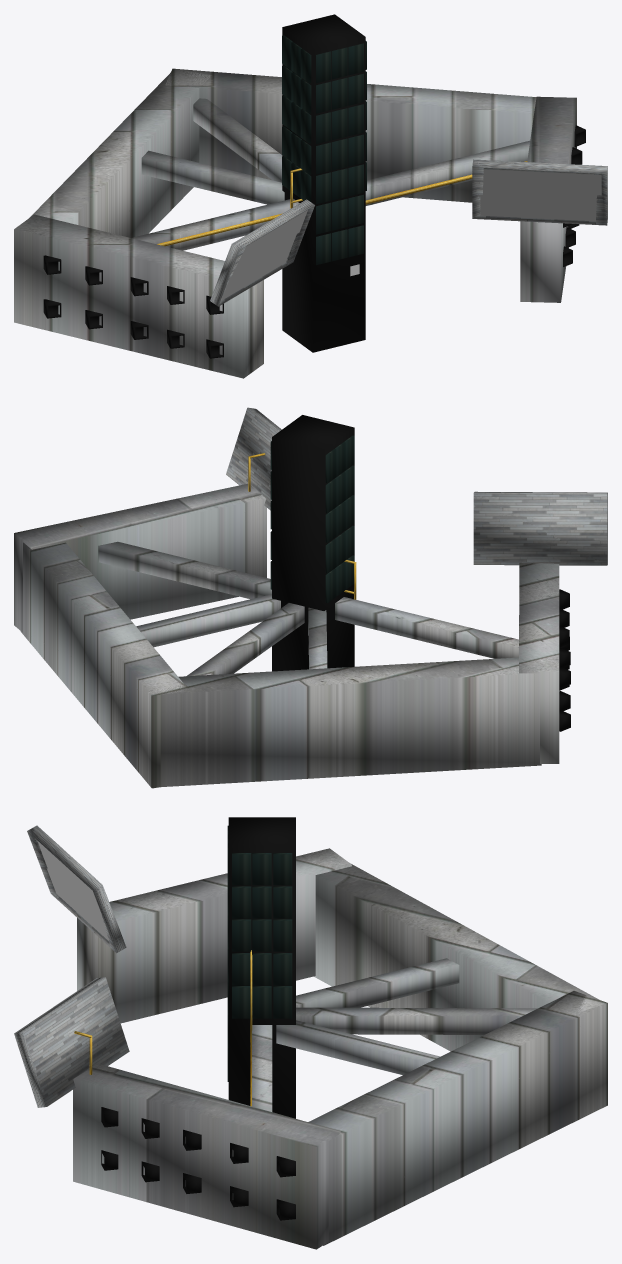
File: korporacija_03.fbx
The picture shows the model from 3 angles, top to bottom: view 1: azimuth 30°, elevation 25°; view 2: azimuth 150°, elevation 25°; view 3: azimuth 270°, elevation 25°; orthographic projection. The views are drawn at different scales.
Parts seen in each view (by area): view 1: Cube.009, STAVBA, Plane.2.2, Cube, Plane.2, Cube.2, CEV 01.1, CEV 01; view 2: Cube.009, STAVBA, Cube.2, Cube; view 3: Cube.009, STAVBA, Cube, Cube.2, Plane.2, OKNO_04.11, OKNO_04.10, OKNO_04.8, OKNO_04.7, OKNO_04.5, OKNO_04.4, OKNO_04.3 (+8 smaller).
Part boxes in pixels (x1,y1,x2,y2): Cube.009: (14, 68, 576, 378); STAVBA: (282, 14, 365, 352); Plane.2.2: (480, 169, 601, 221); Cube: (472, 159, 607, 225); Plane.2: (221, 210, 307, 300); Cube.2: (210, 199, 314, 306); CEV 01.1: (157, 213, 282, 246); CEV 01: (365, 161, 527, 204); Cube.009: (14, 483, 559, 788); STAVBA: (272, 415, 354, 671); Cube.2: (473, 491, 607, 565); Cube: (226, 407, 281, 510); Cube.009: (73, 848, 607, 1249); STAVBA: (228, 817, 295, 1118); Cube: (14, 977, 129, 1107); Cube.2: (27, 825, 126, 953); Plane.2: (37, 841, 108, 940); OKNO_04.11: (273, 986, 292, 1018); OKNO_04.10: (252, 986, 271, 1018); OKNO_04.8: (273, 953, 292, 985); OKNO_04.7: (252, 953, 271, 985); OKNO_04.5: (273, 919, 292, 951); OKNO_04.4: (252, 919, 271, 951); OKNO_04.3: (232, 919, 251, 951).
Size of the model in its own units: 11884 by 6180 by 9983.
